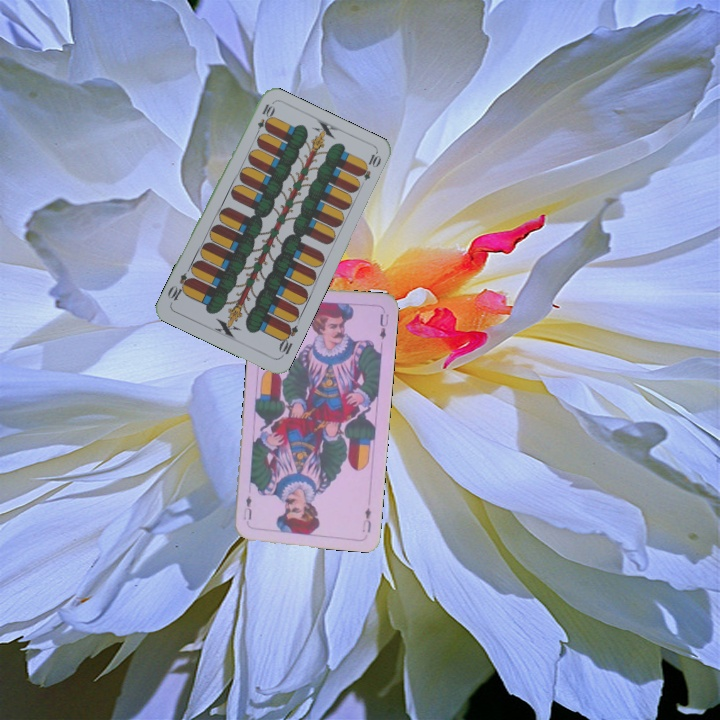E10: (274, 320, 301, 360), (251, 99, 276, 139)
EU: (358, 504, 374, 535)
